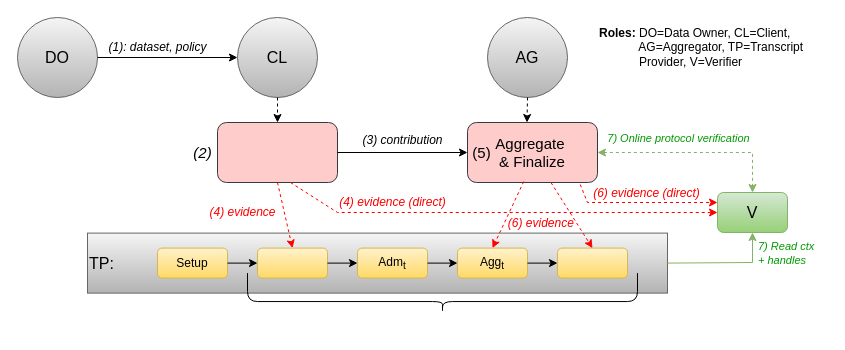
Some shapes in this 845 by 350 pixel diagram are drawn without their labels. The shapes that lost their labels are listed below. From the top down, each one's box as (x1, y1, x2, y2) in pixels, then its label:
(216, 122, 338, 182): Local Training
(256, 247, 328, 278): Sub t
(556, 247, 628, 278): Fin t
(246, 272, 638, 312): Round t
